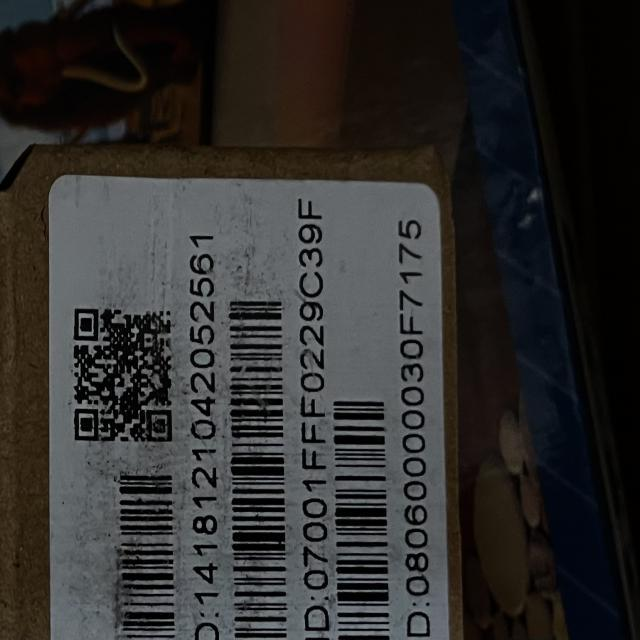qr_code: (73, 308, 172, 442)
